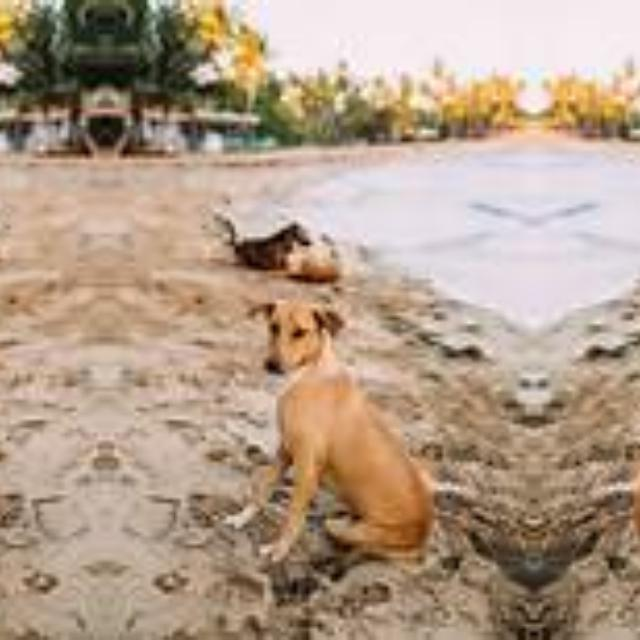dog: (201, 301, 410, 640), (0, 301, 14, 640)
